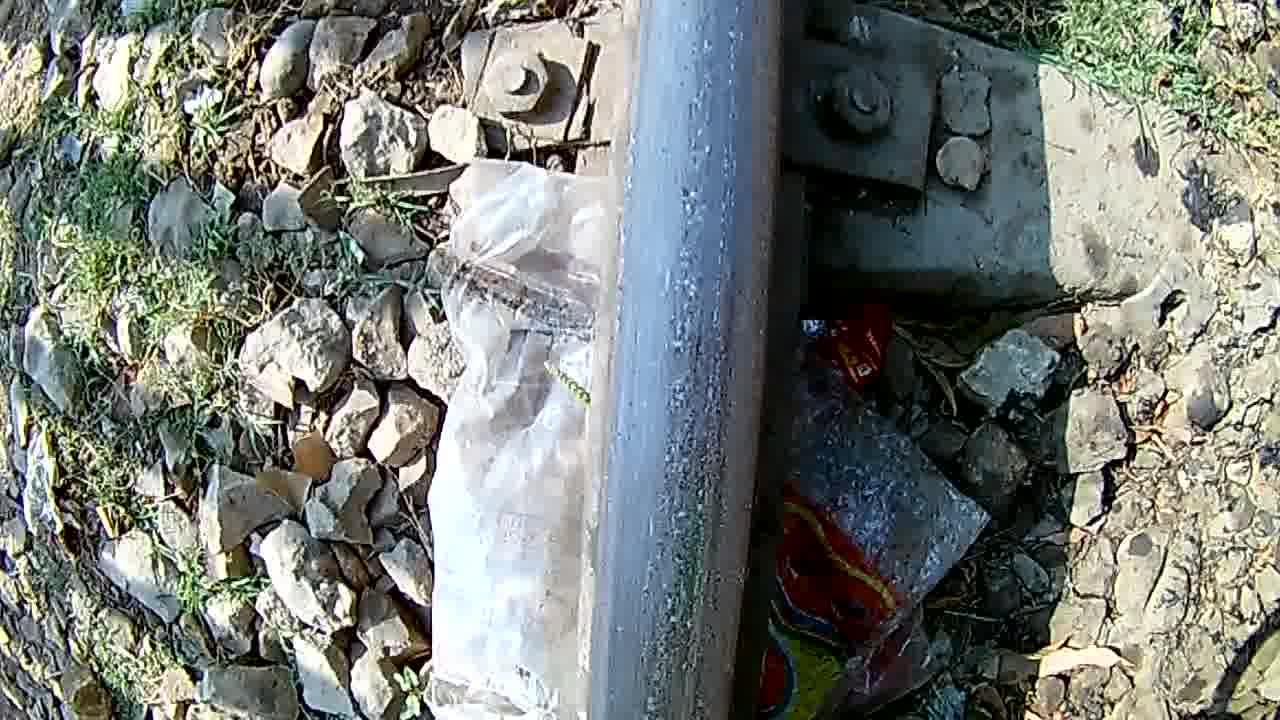clip_missing: (606, 5, 752, 718)
